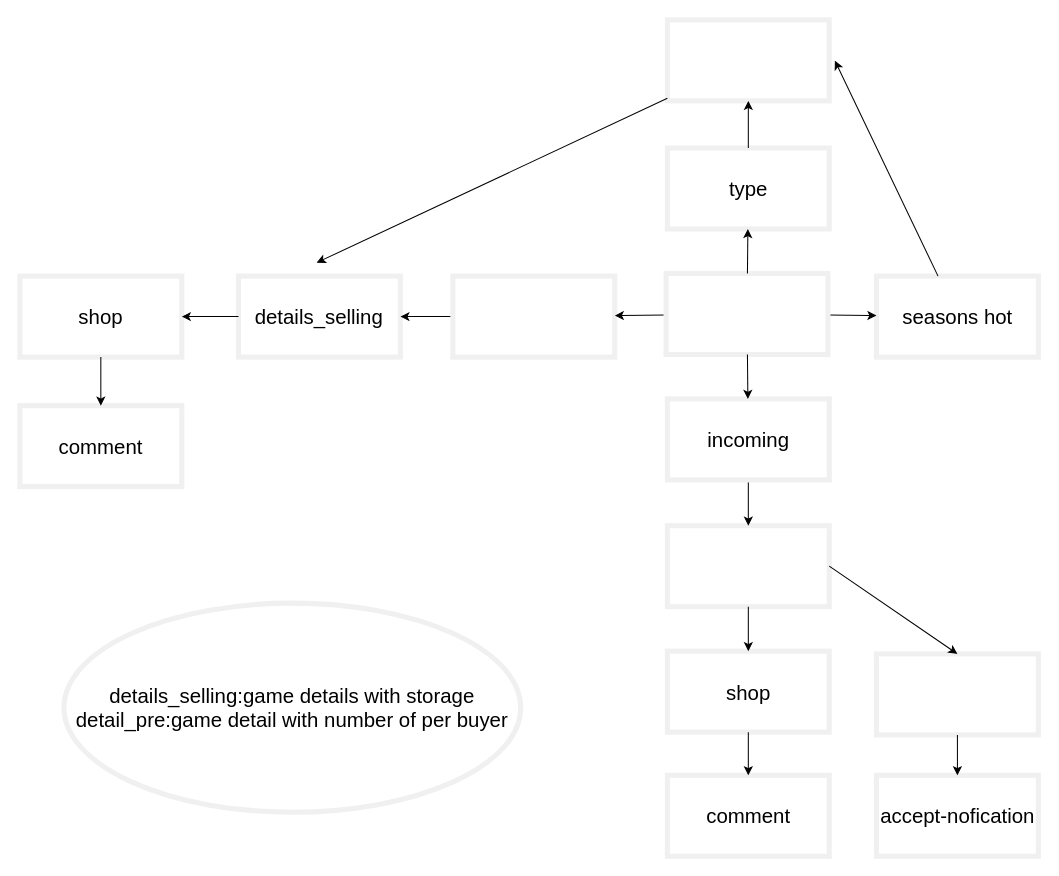
This 1059x876 diagram has some shape labels left out. The centre of each missing label's shape, as x and y in pixels:
"detail_pre" belongs at (x=747, y=566).
"Home" belongs at (x=746, y=313).
"pre-buy" belongs at (x=956, y=694).
"recommand" belongs at (x=533, y=316).
"result" belongs at (x=747, y=60).
